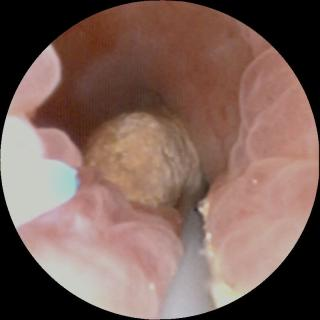stone: (86, 107, 210, 207)
tissue: (13, 4, 314, 290), (22, 140, 179, 316)
